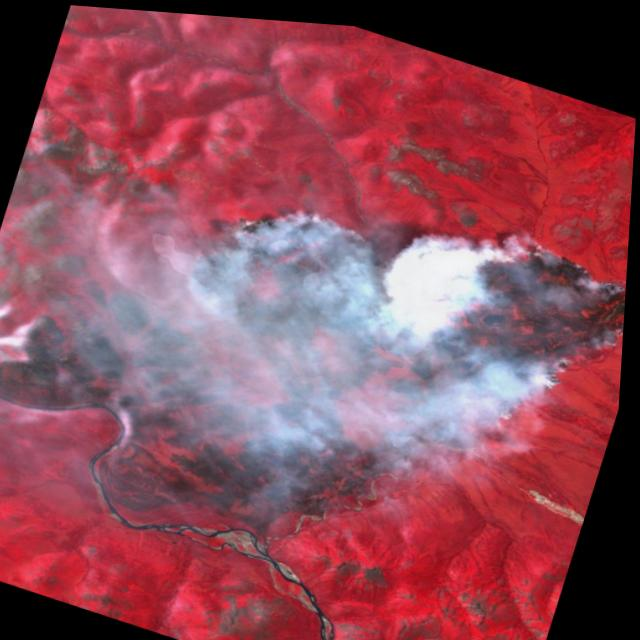fire: (203, 139, 634, 458)
